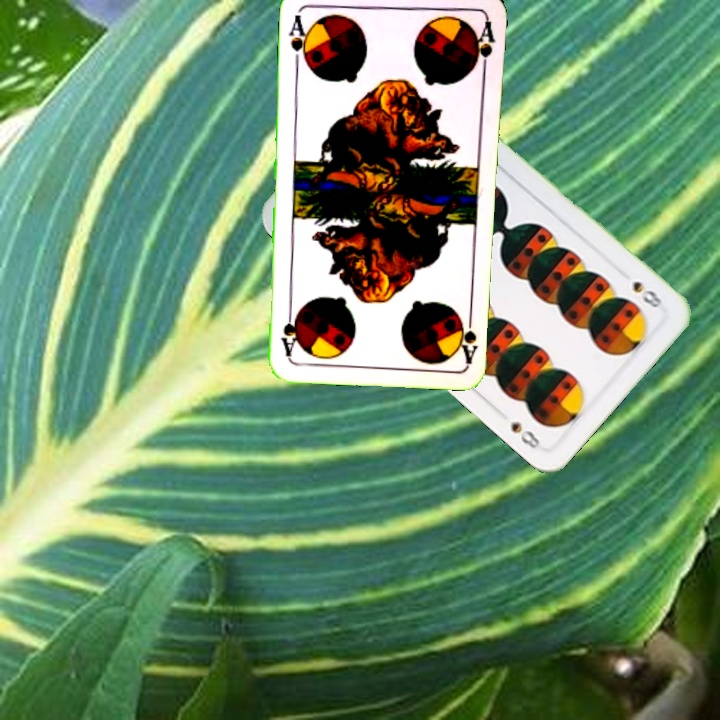S8: (628, 277, 665, 311)
SA: (285, 8, 312, 67), (458, 305, 481, 364)
